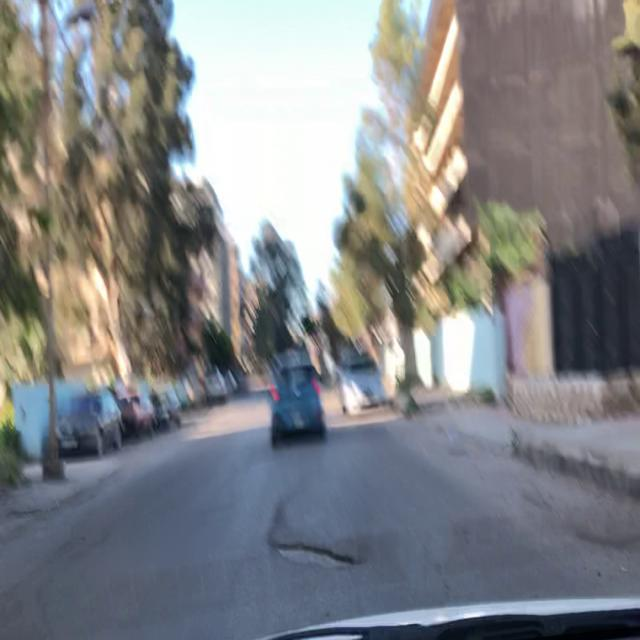Pothole: (273, 538, 364, 572)
